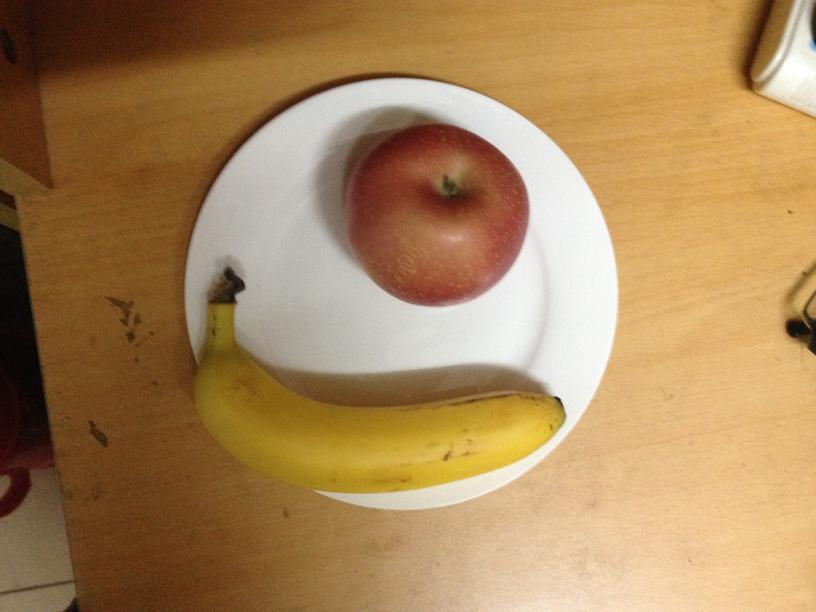apple: (351, 126, 528, 308)
banana: (195, 311, 565, 493)
